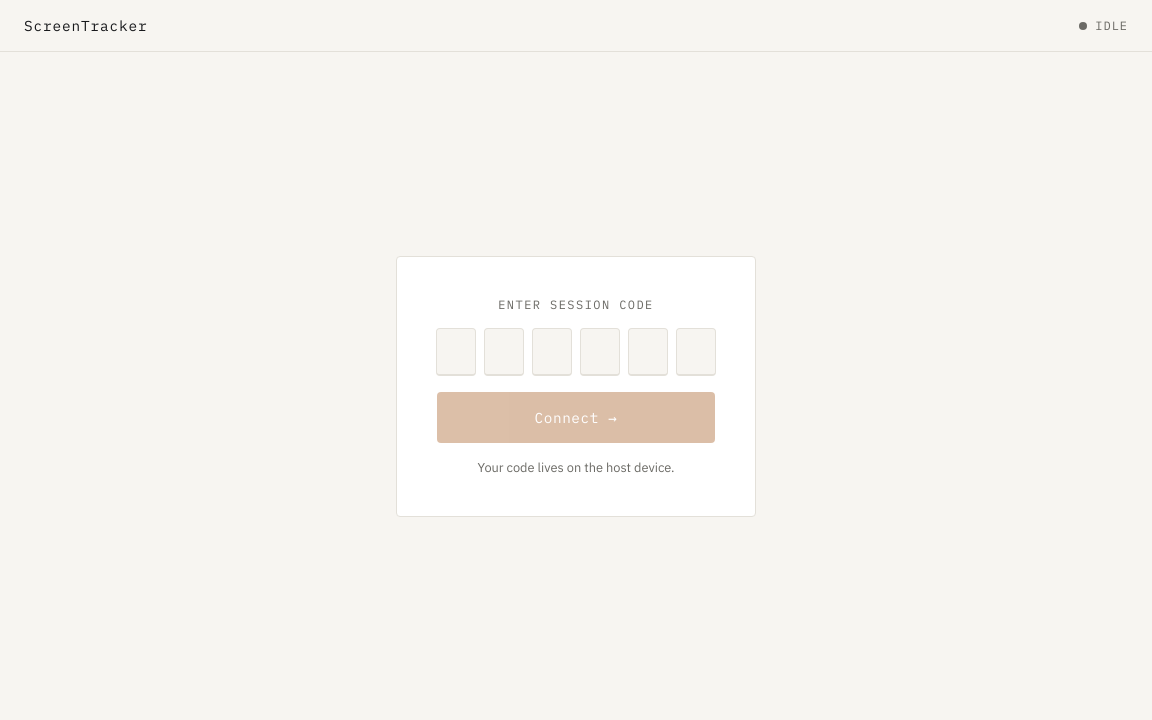
App › shows a human-readable error with the wait time when rate-limited
Type "X" into the field named "Digit 1 of 6" at (456, 352), box [436,328,476,376]
Type "7" into the field named "Digit 2 of 6" at (504, 352), box [484,328,524,376]
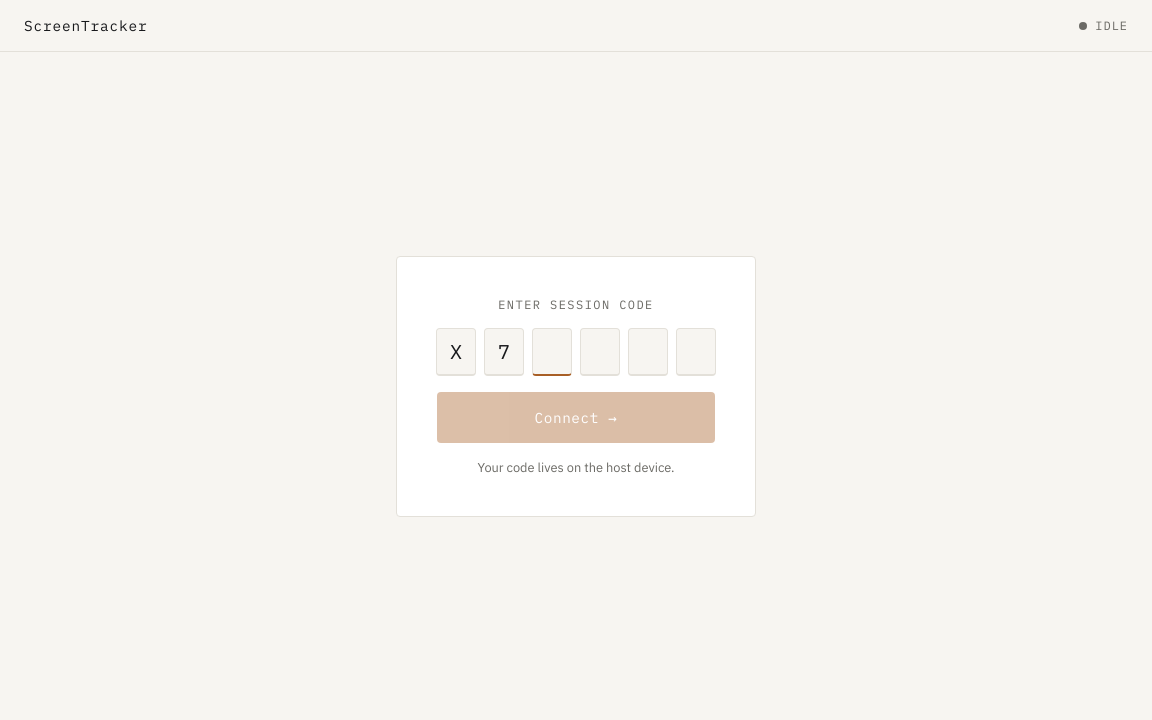
Type "K" into the field named "Digit 3 of 6" at (552, 352), box [532,328,572,376]
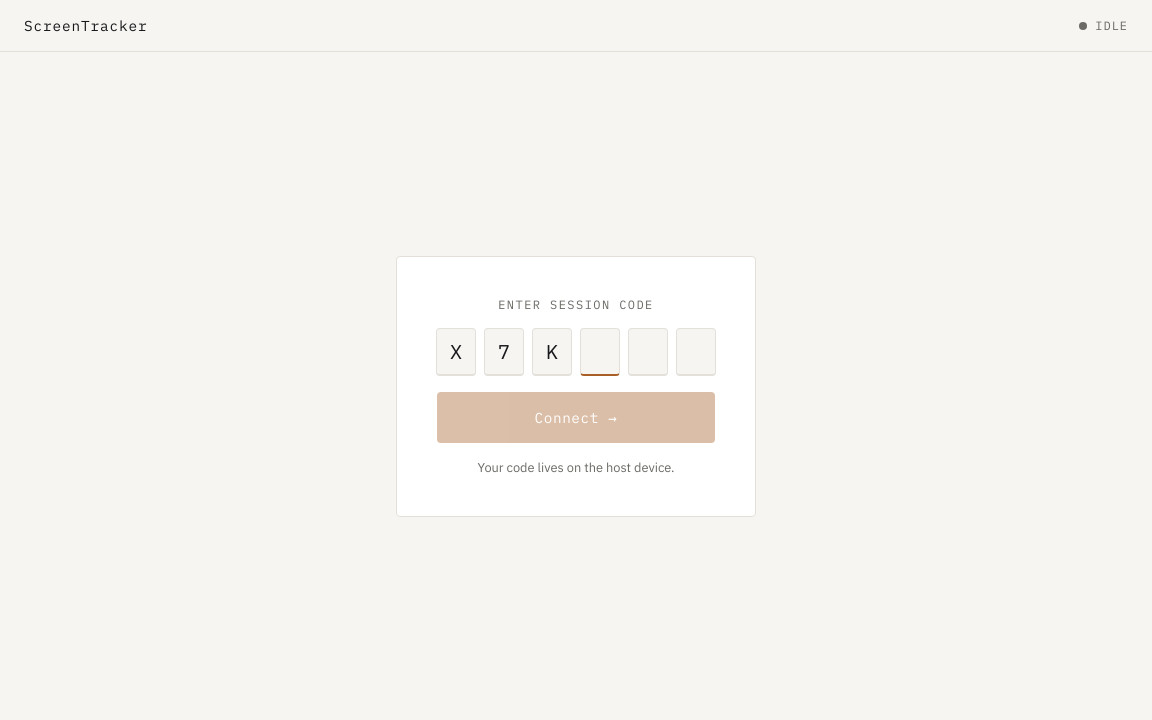
Type "2" into the field named "Digit 4 of 6" at (600, 352), box [580,328,620,376]
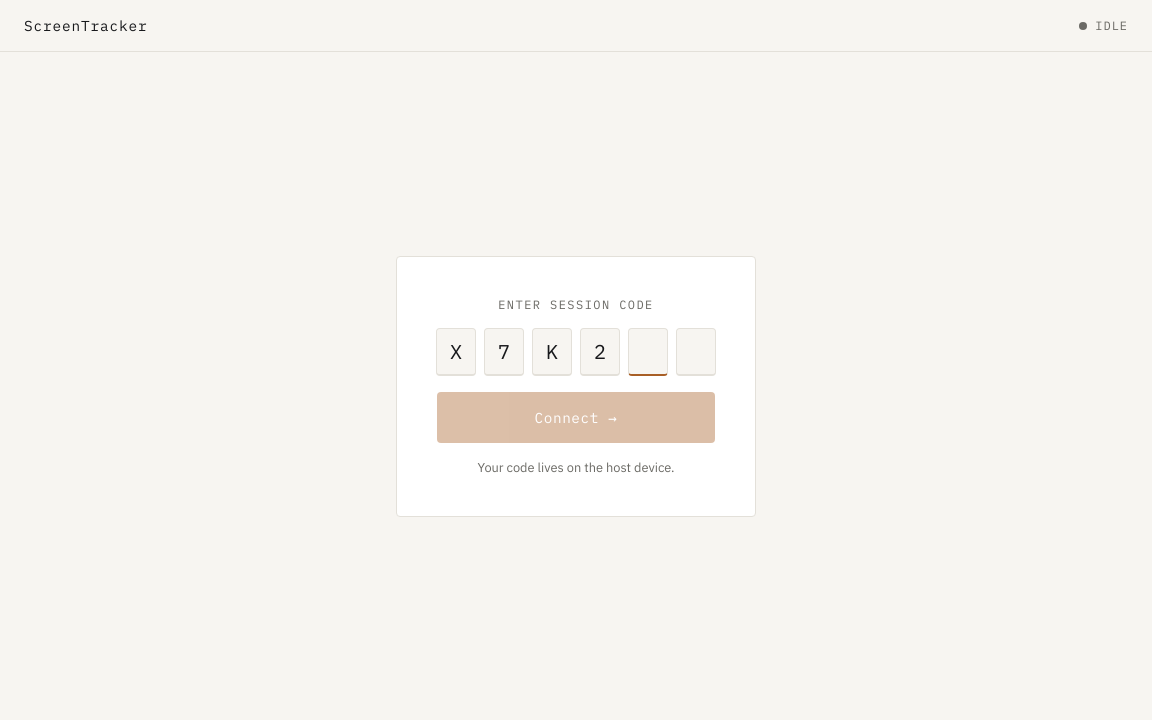
Type "M" into the field named "Digit 5 of 6" at (648, 352), box [628,328,668,376]
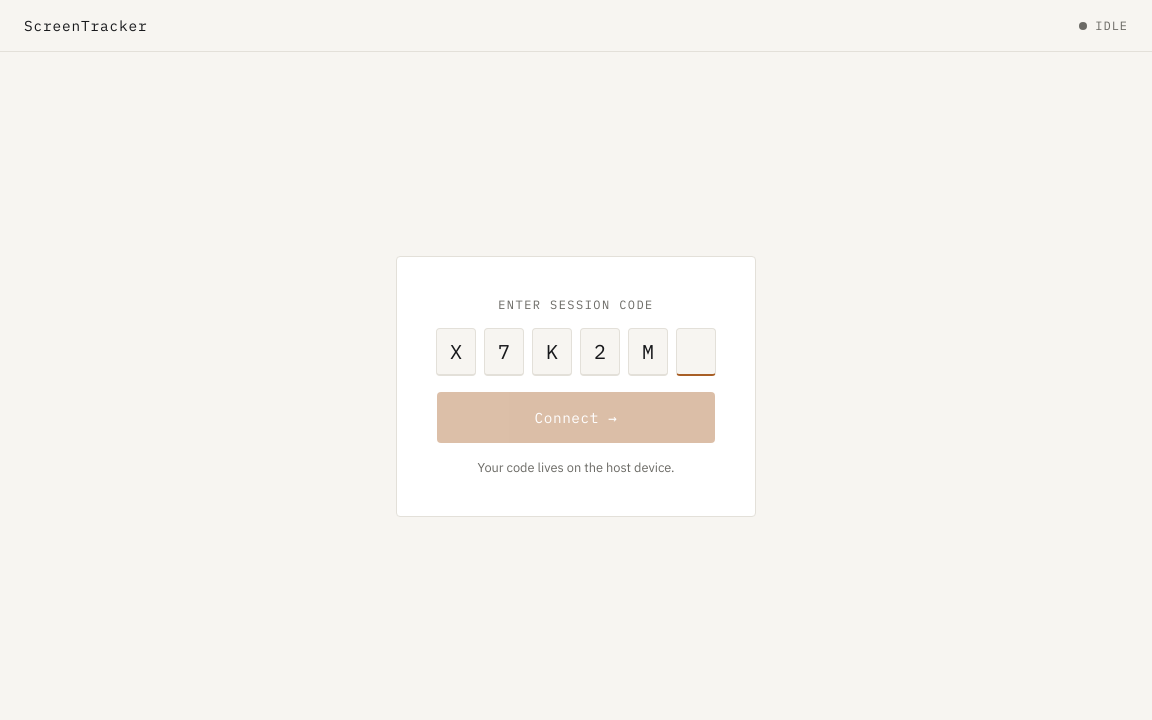
Type "9" into the field named "Digit 6 of 6" at (696, 352), box [676,328,716,376]
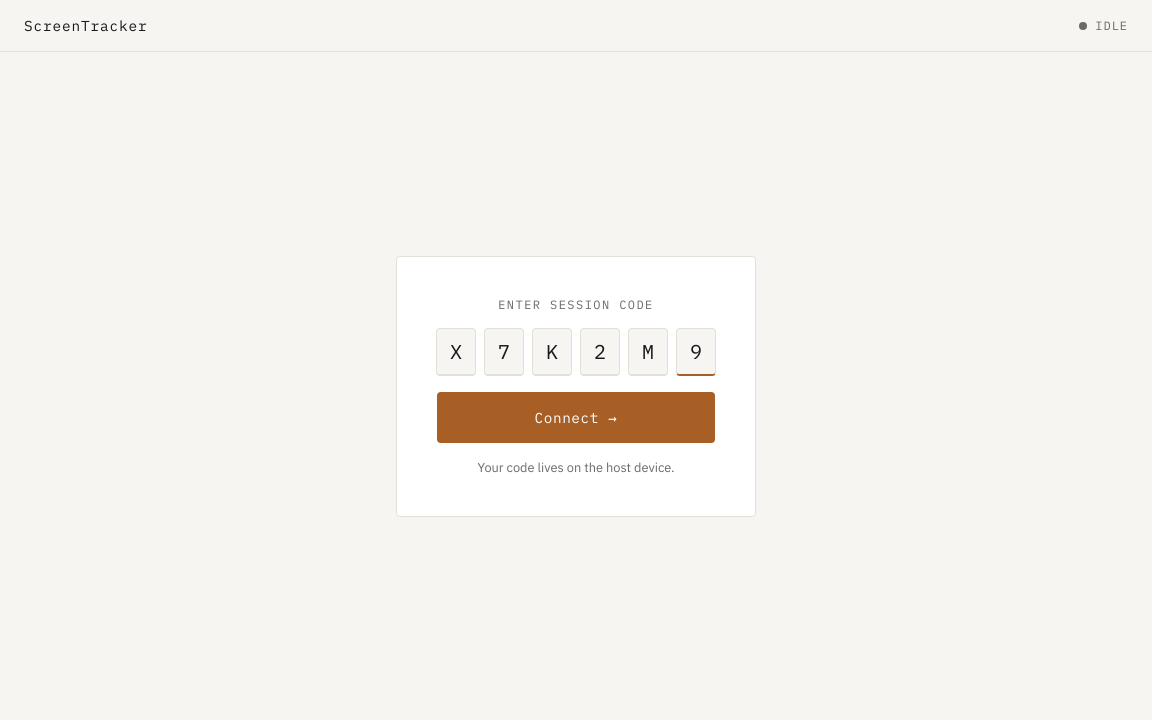
Click the button "Connect →" at (576, 417), box [437,392,715,442]
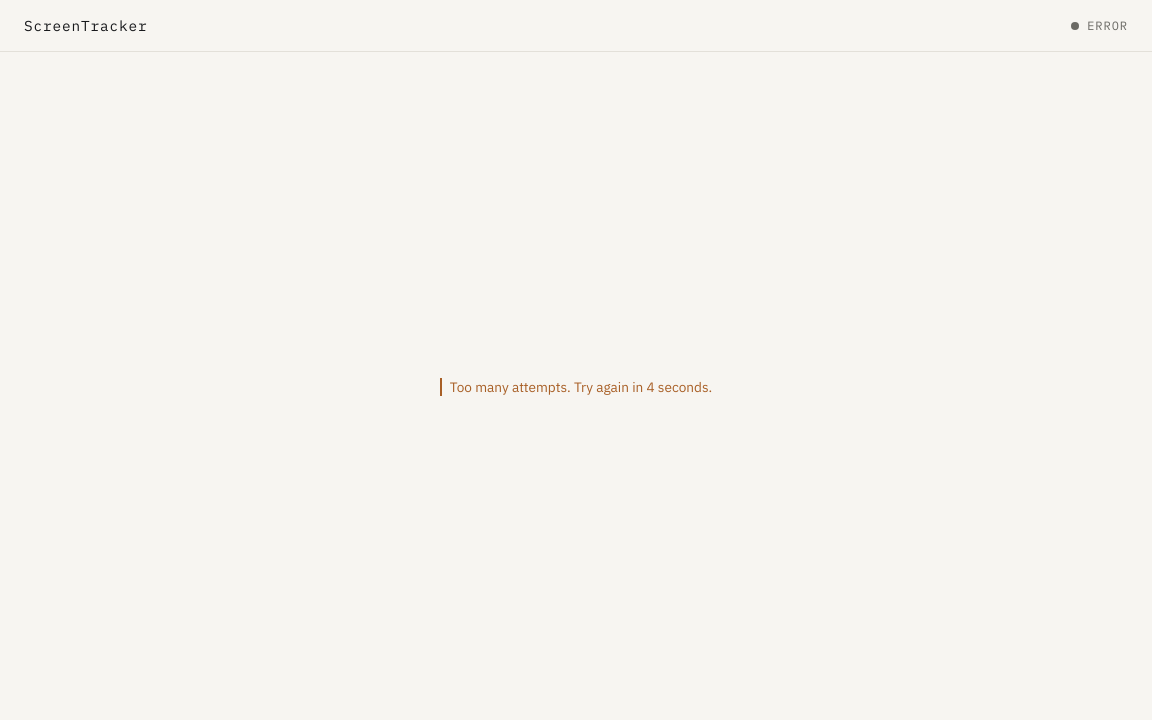
Expected: the message reads "Too many attempts. Try again in 4 seconds.", [450,378,712,396]
